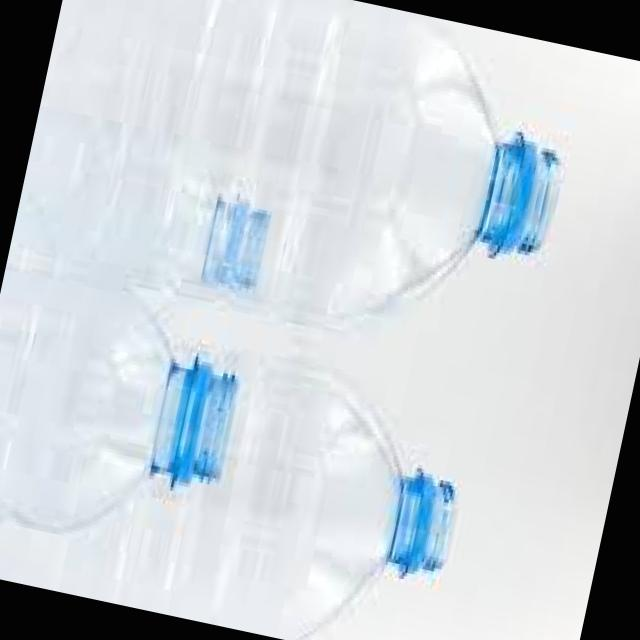bottle: (39, 0, 559, 323), (0, 357, 454, 639), (0, 270, 236, 532), (13, 113, 270, 292)
